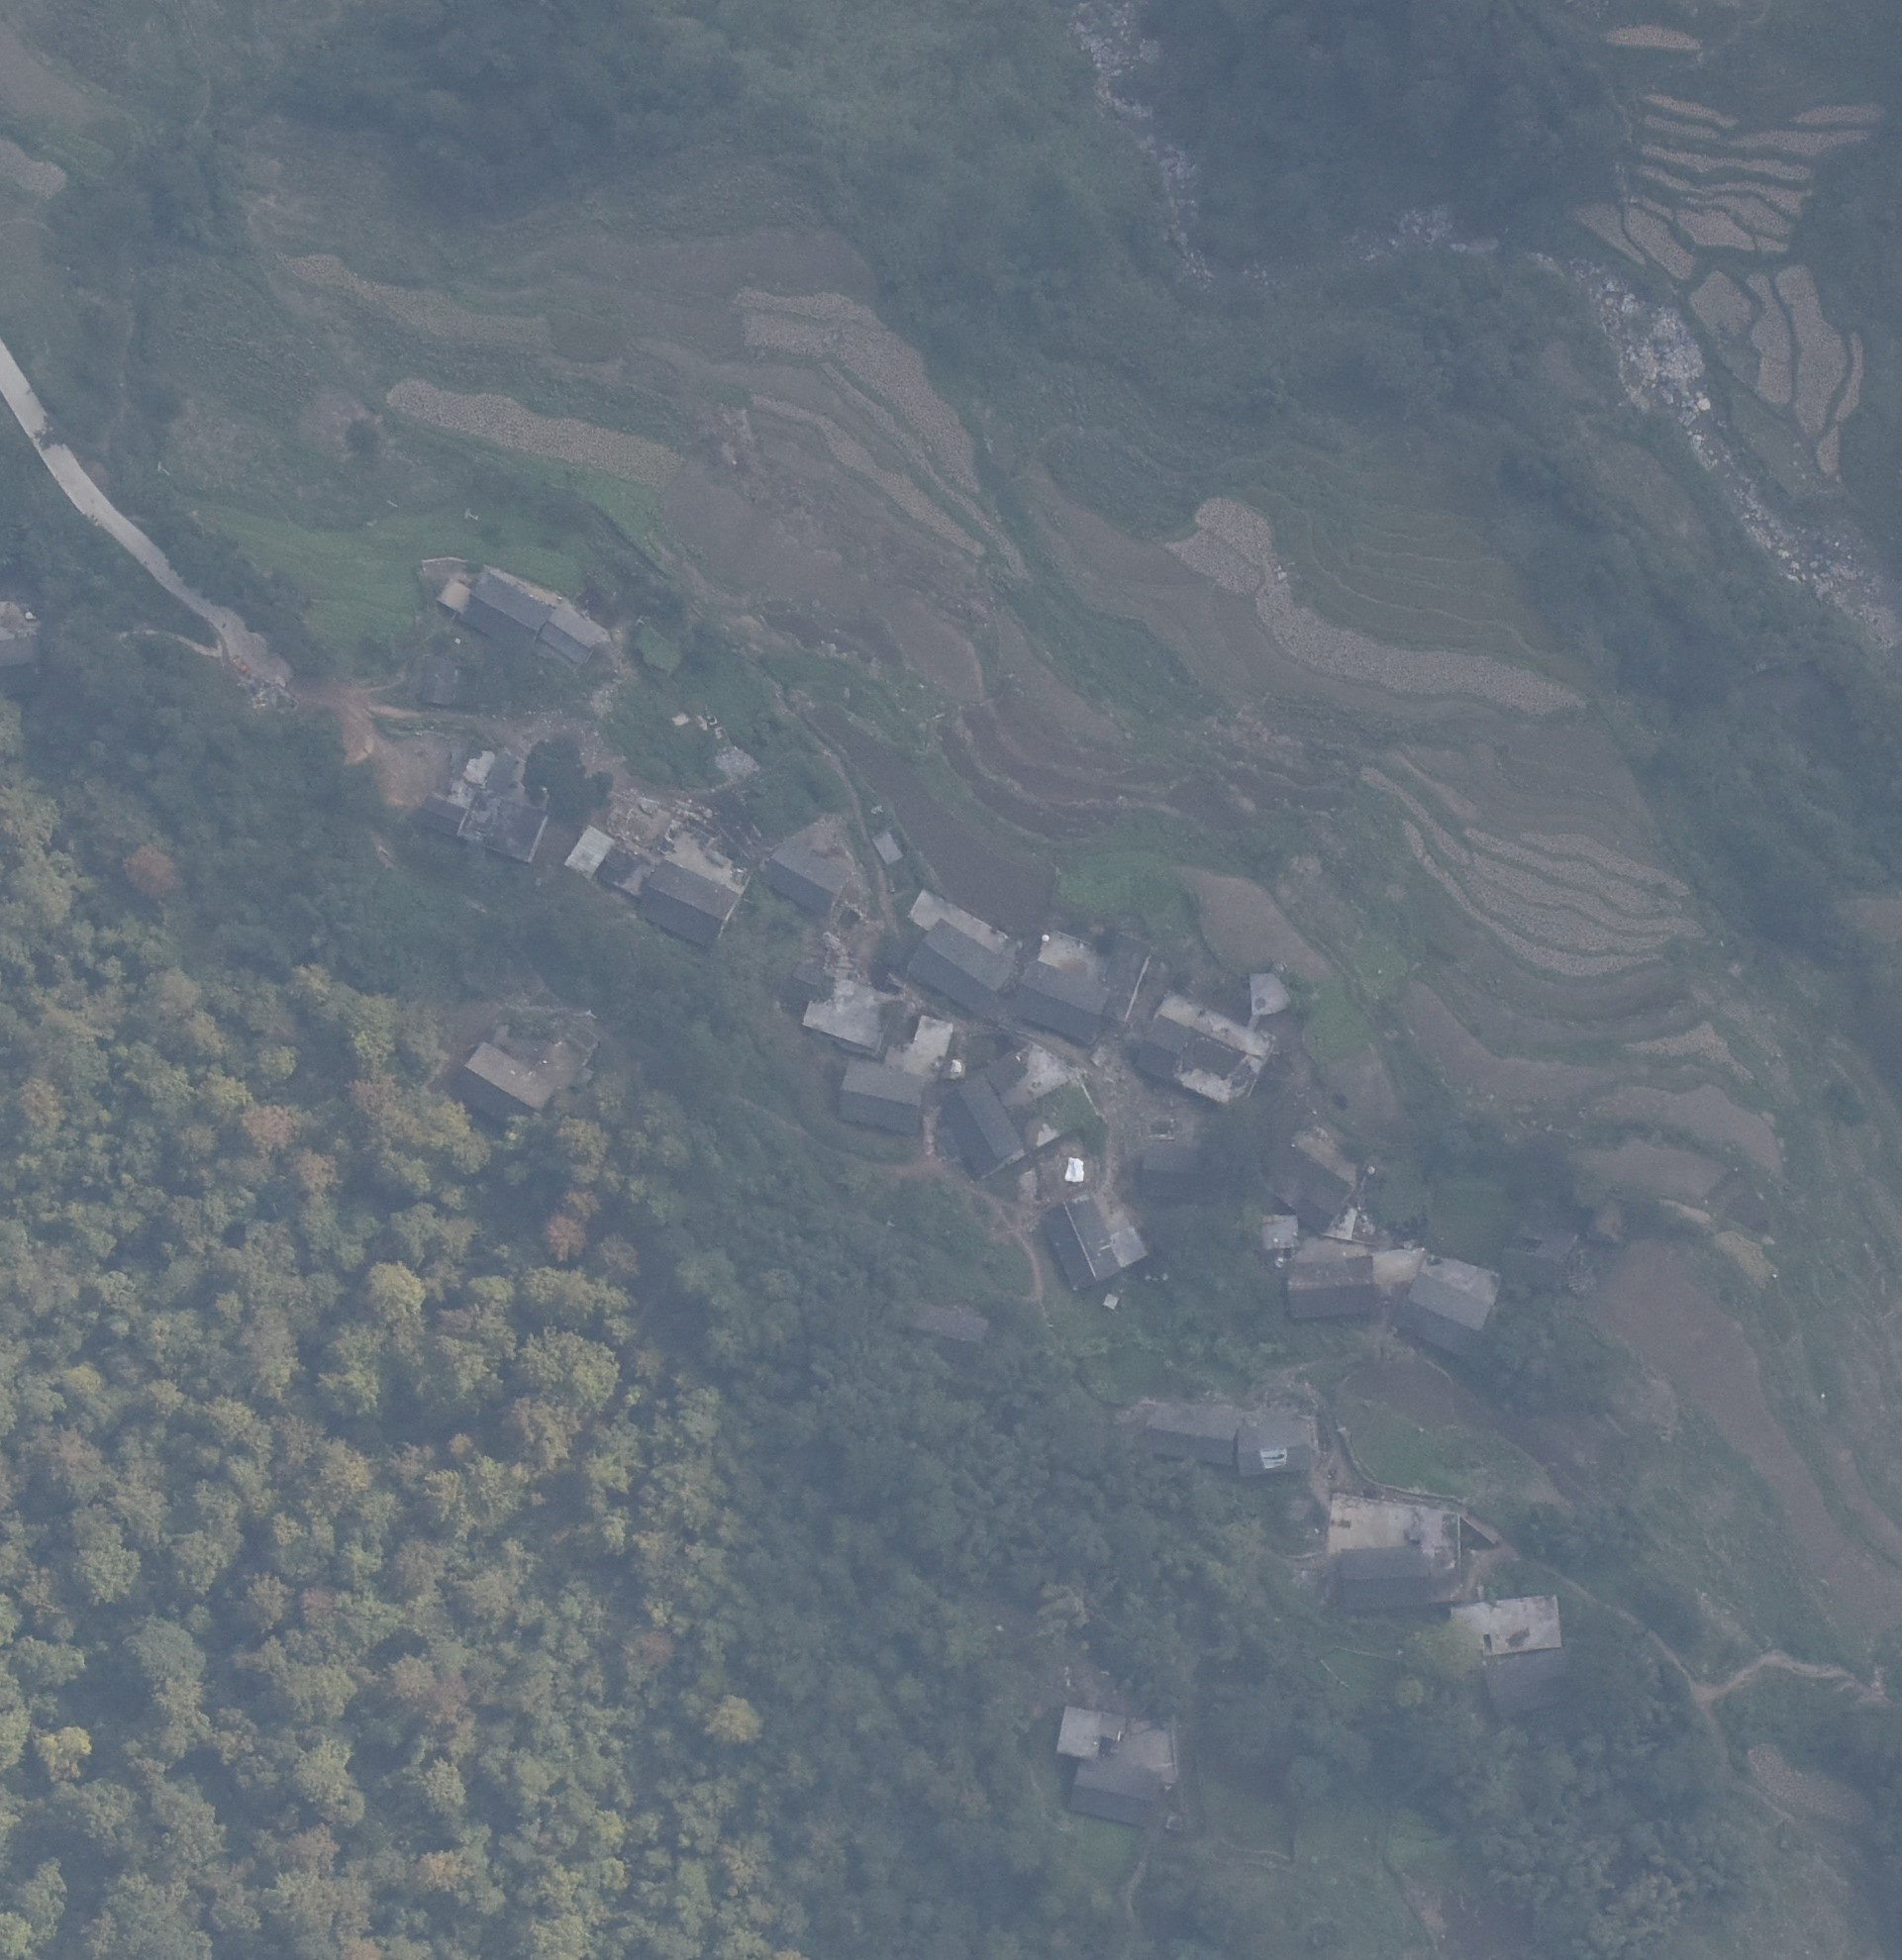building: (1133, 991, 1274, 1100), (639, 854, 750, 951), (905, 919, 1014, 1014), (1325, 1493, 1470, 1562), (797, 972, 908, 1060), (1259, 1141, 1360, 1237), (1036, 1194, 1127, 1298), (943, 1076, 1031, 1180), (462, 1038, 561, 1129), (1009, 958, 1111, 1045), (487, 1016, 593, 1098), (1405, 1249, 1506, 1334), (1064, 1751, 1167, 1833), (829, 1054, 928, 1139), (1334, 1545, 1444, 1619), (1142, 1398, 1251, 1469), (756, 841, 854, 920), (465, 570, 554, 655), (1478, 1649, 1587, 1718), (1280, 1255, 1384, 1327), (1450, 1596, 1569, 1654), (457, 791, 551, 863), (1228, 1415, 1322, 1483), (540, 597, 617, 671), (1053, 1701, 1132, 1761), (414, 794, 474, 857), (1139, 1144, 1202, 1200), (562, 823, 617, 882), (1253, 1213, 1308, 1255), (1105, 1227, 1153, 1271), (597, 848, 638, 894), (421, 660, 456, 706)
